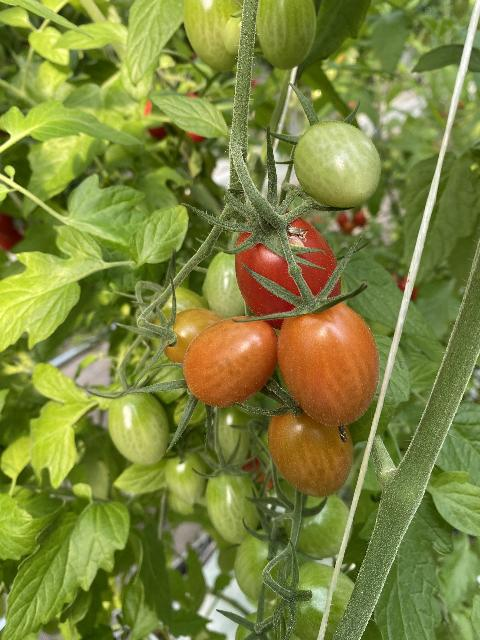l_fully_ripened: (235, 205, 341, 331)
l_green: (291, 120, 381, 208), (280, 562, 356, 640), (109, 386, 170, 465), (233, 527, 297, 602), (205, 465, 261, 544), (255, 0, 317, 70), (184, 0, 244, 72), (285, 494, 352, 557), (206, 247, 245, 320), (154, 287, 210, 334), (234, 610, 299, 640), (222, 10, 243, 54)
l_half_ripened: (277, 299, 381, 427), (182, 315, 278, 409), (267, 400, 353, 497), (161, 308, 224, 366)
